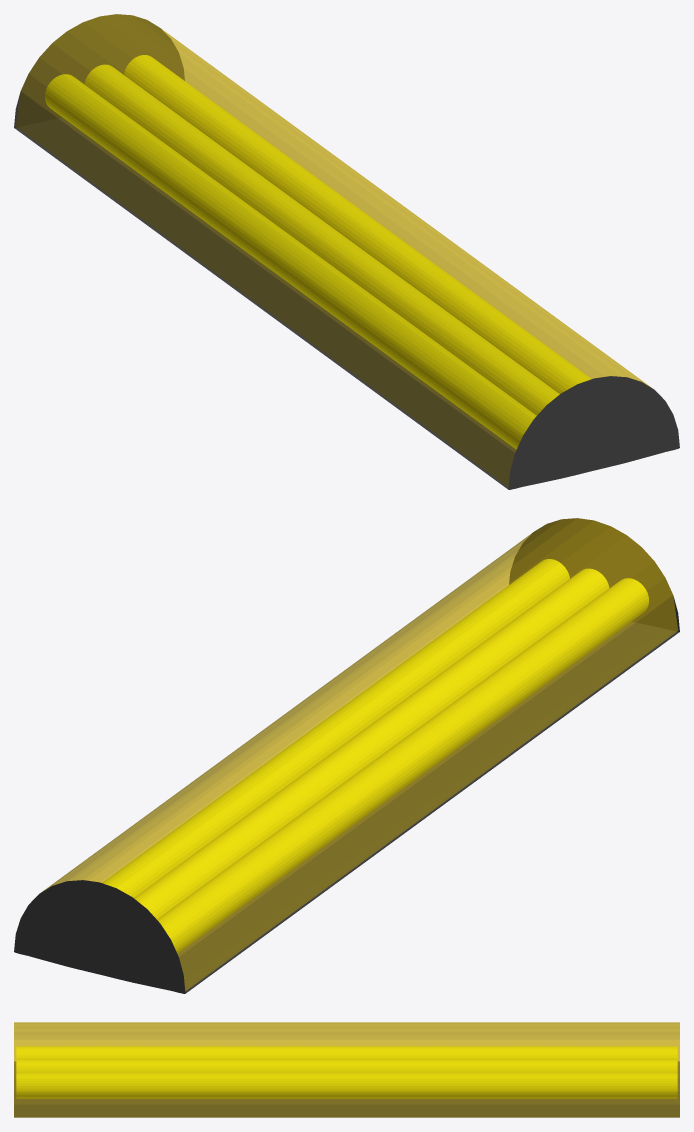
The model's file is Ledlampa.fbx.
The picture shows the model from 3 angles, top to bottom: view 1: azimuth 30°, elevation 25°; view 2: azimuth 150°, elevation 25°; view 3: azimuth 270°, elevation 25°; orthographic projection. The views are drawn at different scales.
Parts seen in each view (by area): view 1: Cylinder; view 2: Cylinder; view 3: Cylinder.
Part boxes in pixels (left/top/right/bottom): Cylinder: left=14, top=14, right=679, bottom=489; Cylinder: left=14, top=518, right=679, bottom=993; Cylinder: left=14, top=1022, right=679, bottom=1117.
Bounding box in the file's own units: 100 × 51.49 × 500.
